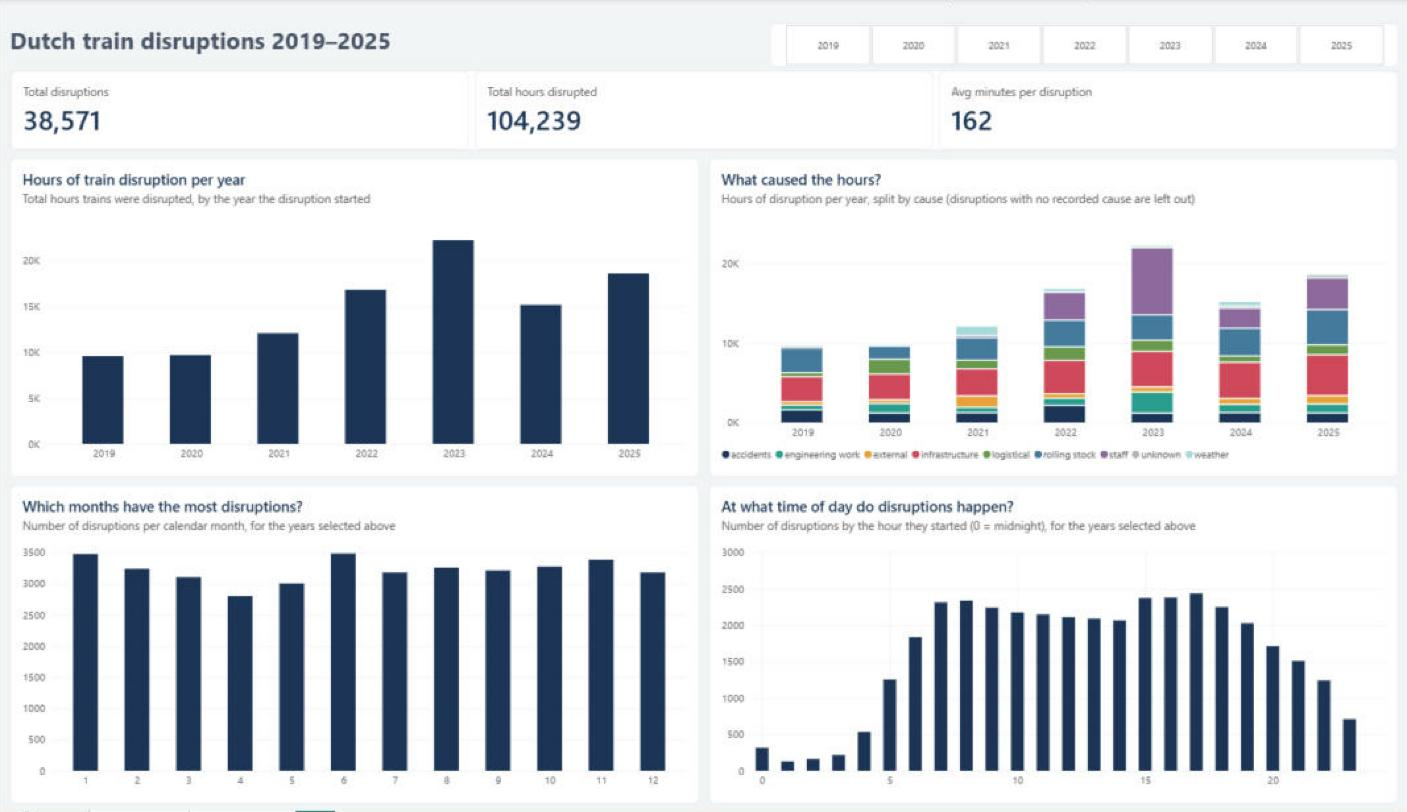

Layout of this report page (visuals, bound fields, positions):
{"tool":"powerbi","page":{"name":"Dashboard","canvas":[1920,1080],"ordinal":0},"visuals":[{"type":"clusteredColumnChart","title":"Disruption time per year (hours)","fields":{"Category":["by_year.year"],"Y":["Sum(by_year.hours)"]},"box":[13,190,940,435],"z":0},{"type":"columnChart","title":"What caused the hours?","fields":{"Category":["by_year_cause.year"],"Series":["by_year_cause.cause_group"],"Y":["Sum(by_year_cause.hours)"]},"box":[967,190,940,435],"z":1},{"type":"clusteredColumnChart","title":"Which months have the most disruptions?","fields":{"Category":["by_month.month"],"Y":["Sum(by_month.disruptions)"]},"box":[13,635,940,435],"z":2},{"type":"clusteredColumnChart","title":"At what time of day do disruptions happen?","fields":{"Category":["by_hour.hour"],"Y":["Sum(by_hour.disruptions)"]},"box":[967,635,940,435],"z":3},{"type":"textbox","box":[100,100,300,300],"z":4},{"type":"textbox","box":[13,5,1000,60],"z":5},{"type":"cardVisual","fields":{"Data":["by_year.Total disruptions","by_year.Total hours disrupted","by_year.Avg minutes per disruption"]},"box":[13,70,1894,110],"z":6},{"type":"slicer","fields":{"Values":["by_year.year"]},"box":[1050,5,857,60],"z":7}]}

Visuals, with their boxes in screenshot pixels (x1, y1, x2, y2), scaled from the page's 1920x1080 canvas onto the 1407x812 screenshot:
"Disruption time per year (hours)" clusteredColumnChart: [left=10, top=143, right=698, bottom=470]
"What caused the hours?" columnChart: [left=709, top=143, right=1397, bottom=470]
"Which months have the most disruptions?" clusteredColumnChart: [left=10, top=477, right=698, bottom=804]
"At what time of day do disruptions happen?" clusteredColumnChart: [left=709, top=477, right=1397, bottom=804]
textbox: [left=73, top=75, right=293, bottom=301]
textbox: [left=10, top=4, right=742, bottom=49]
cardVisual - by_year.Total disruptions x by_year.Total hours disrupted: [left=10, top=53, right=1397, bottom=135]
slicer - by_year.year: [left=769, top=4, right=1397, bottom=49]
